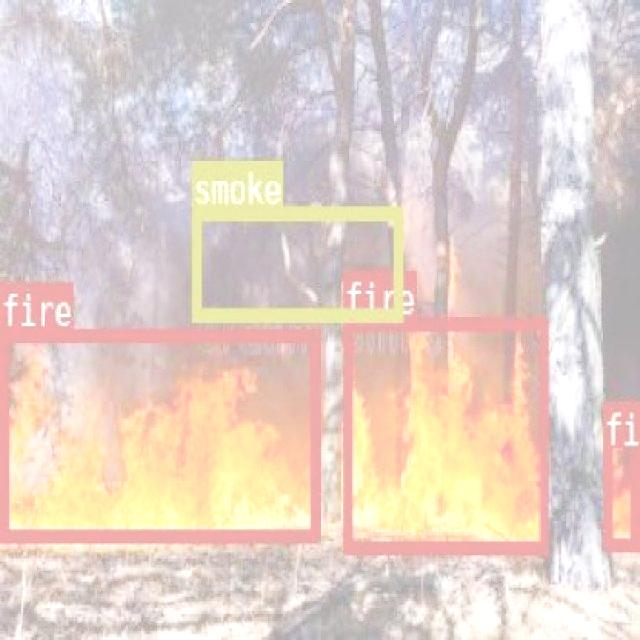fire: (0, 325, 318, 540), (340, 317, 546, 551), (602, 399, 636, 547)
smoke: (190, 203, 401, 320)
